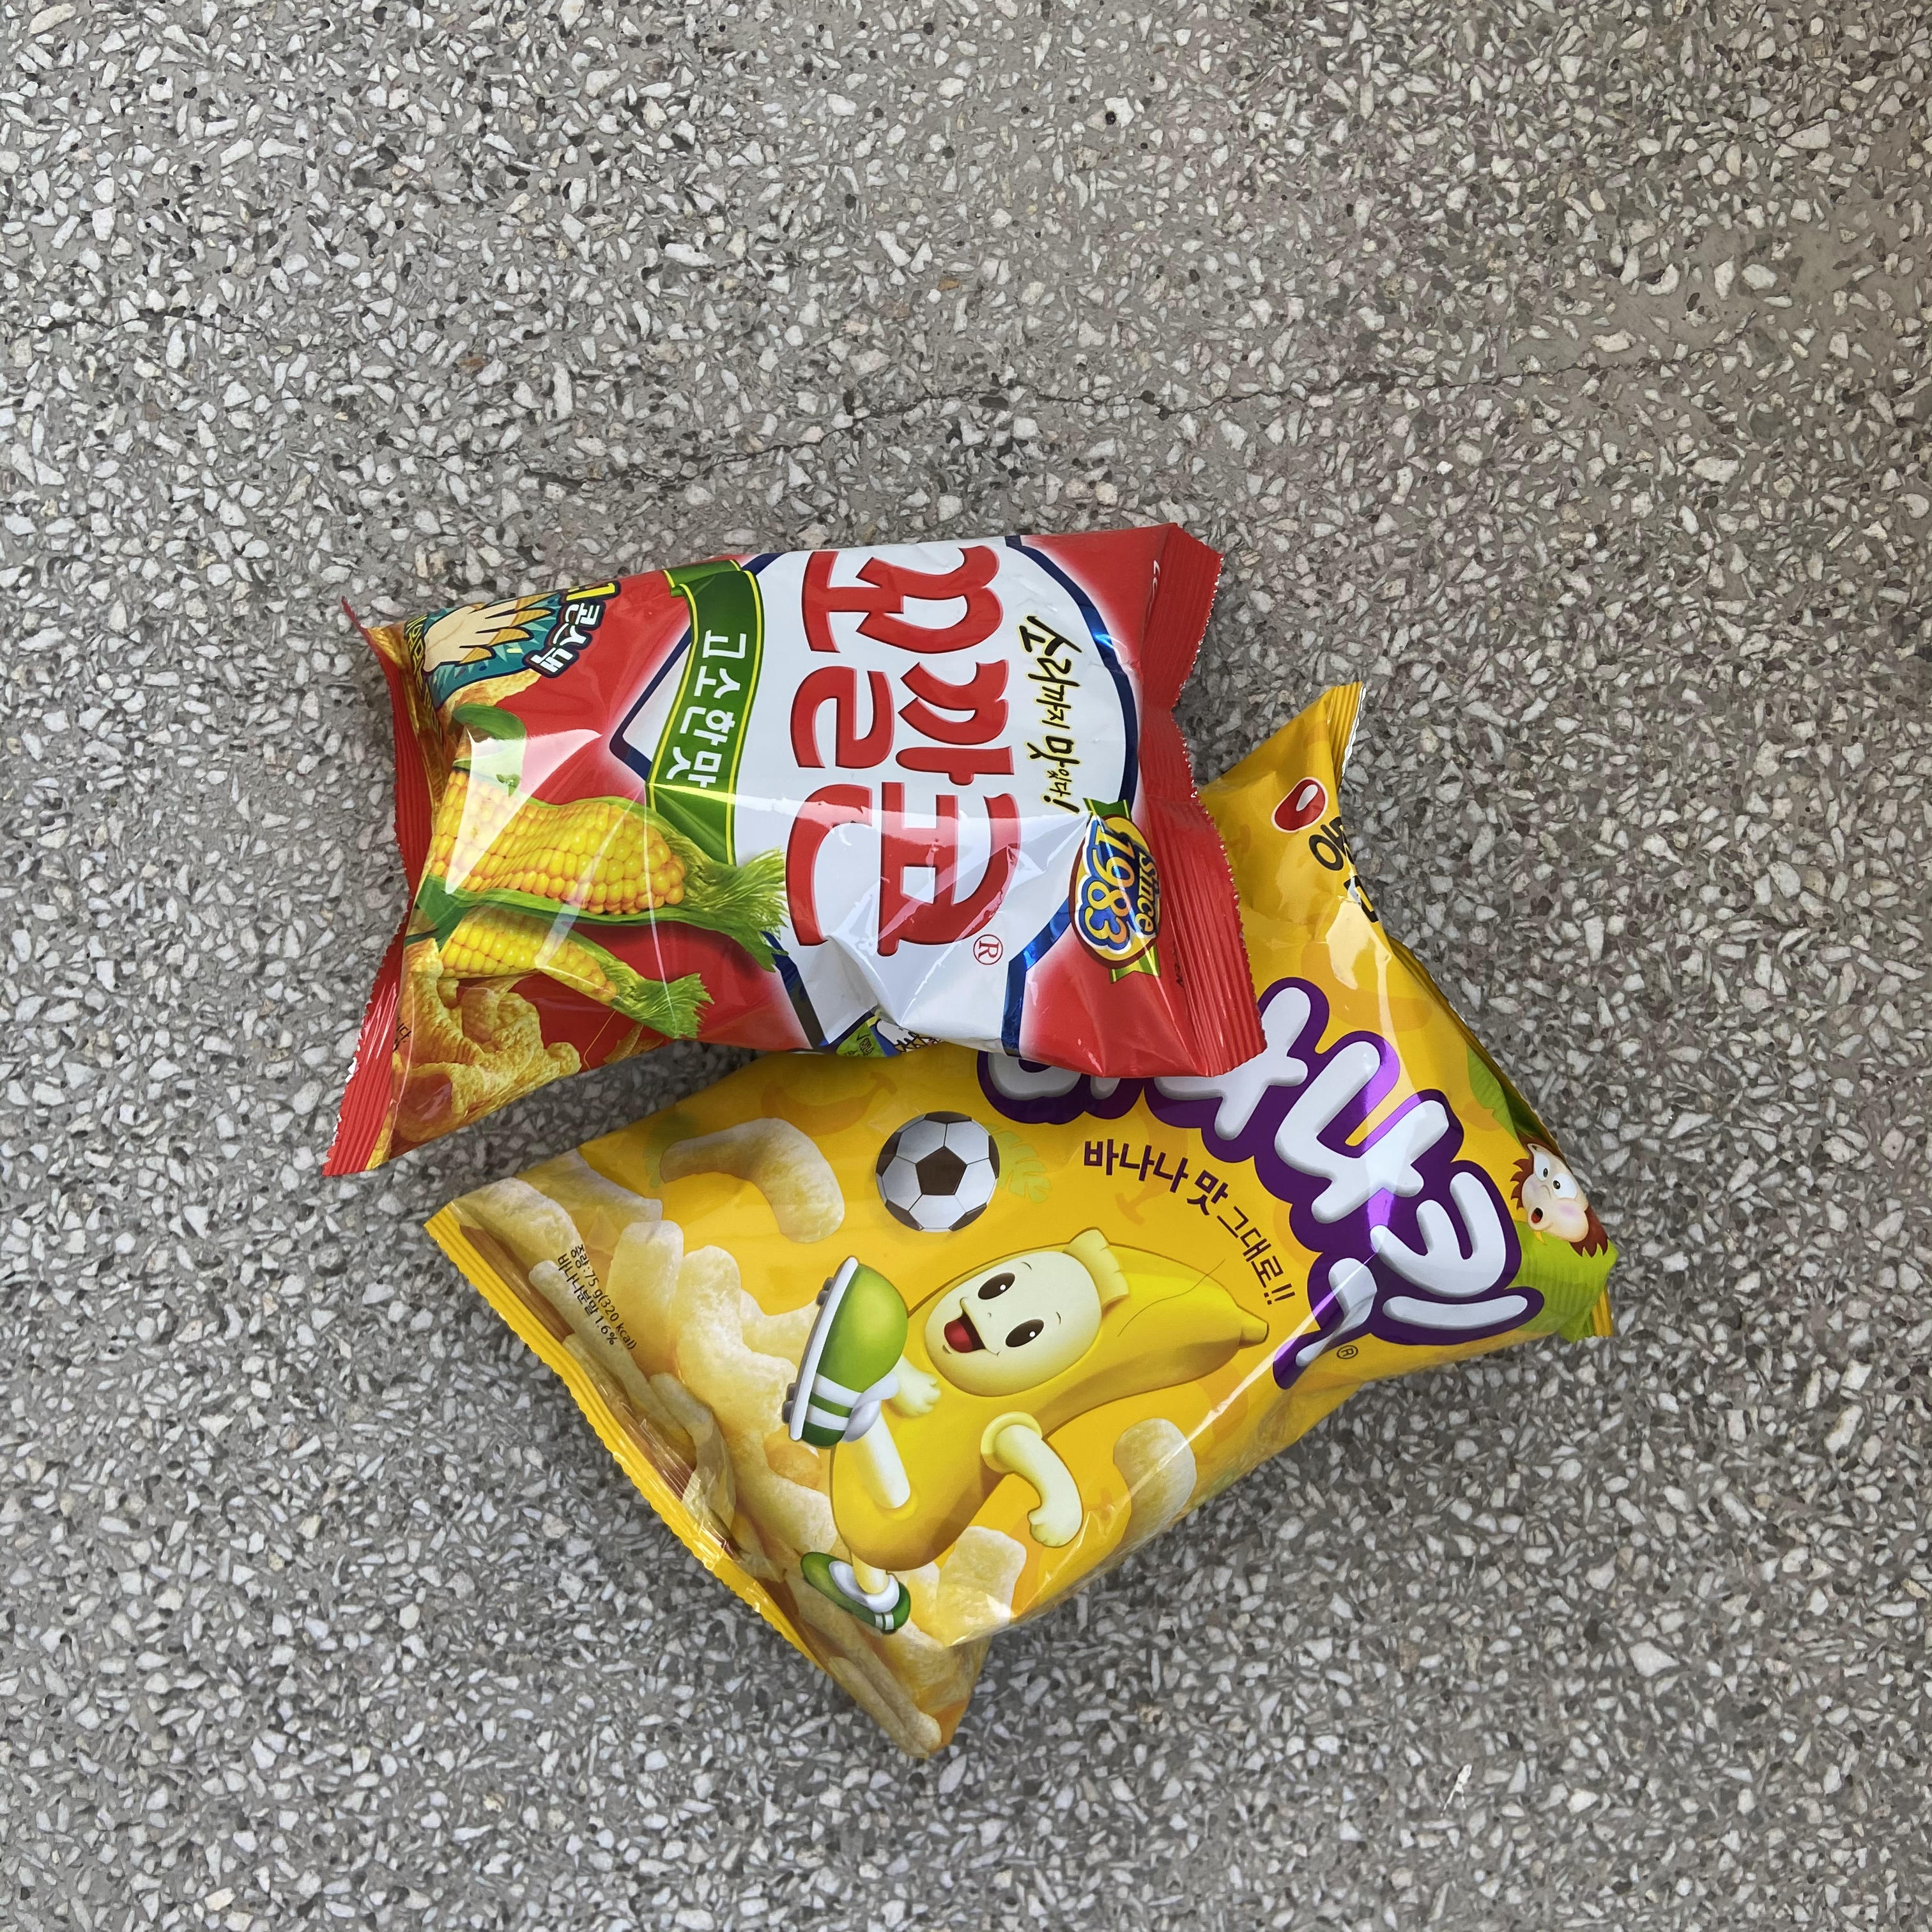banana: (419, 669, 1628, 1801)
ggoggalcon: (313, 527, 1277, 1180)
